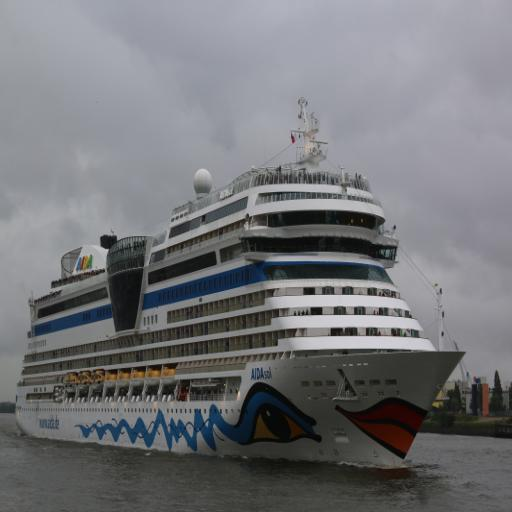cruises: (13, 95, 470, 479)
